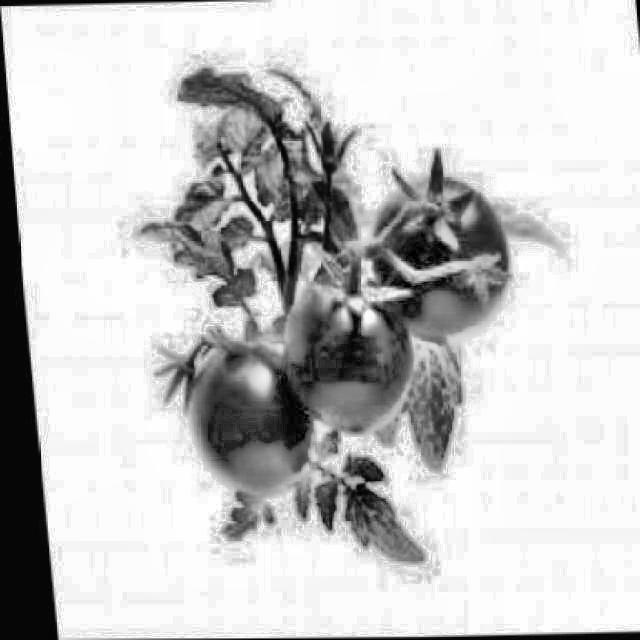plants: (113, 40, 593, 583)
